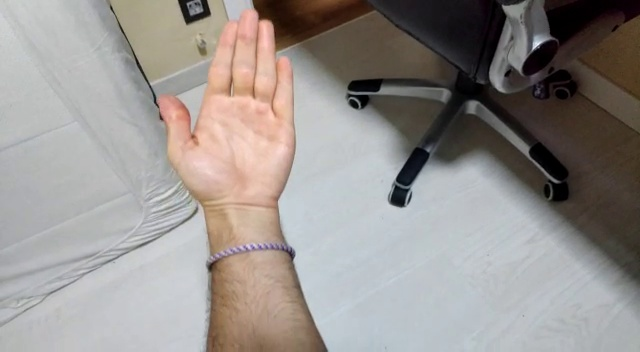Palm: (154, 7, 299, 213)
